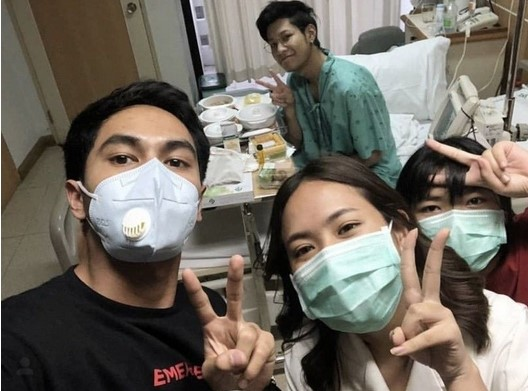face_no_mask: (263, 6, 317, 71)
face_with_mask: (66, 92, 206, 263), (276, 169, 406, 333), (410, 142, 508, 273)
